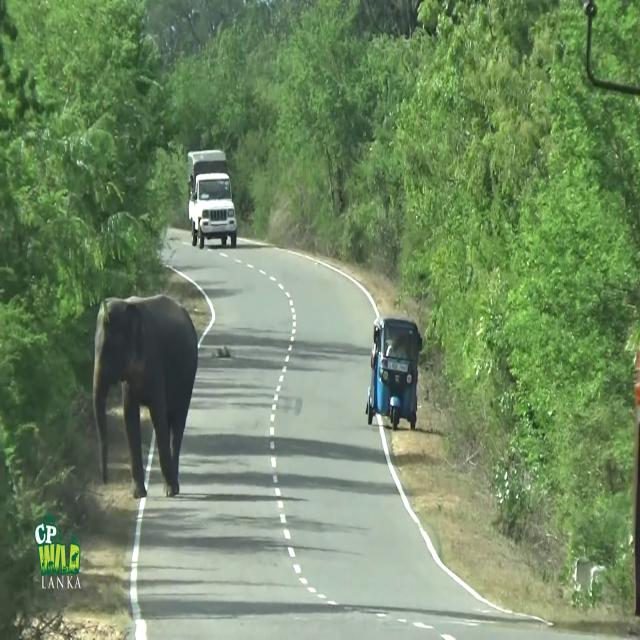Elephant: (92, 293, 198, 499)
